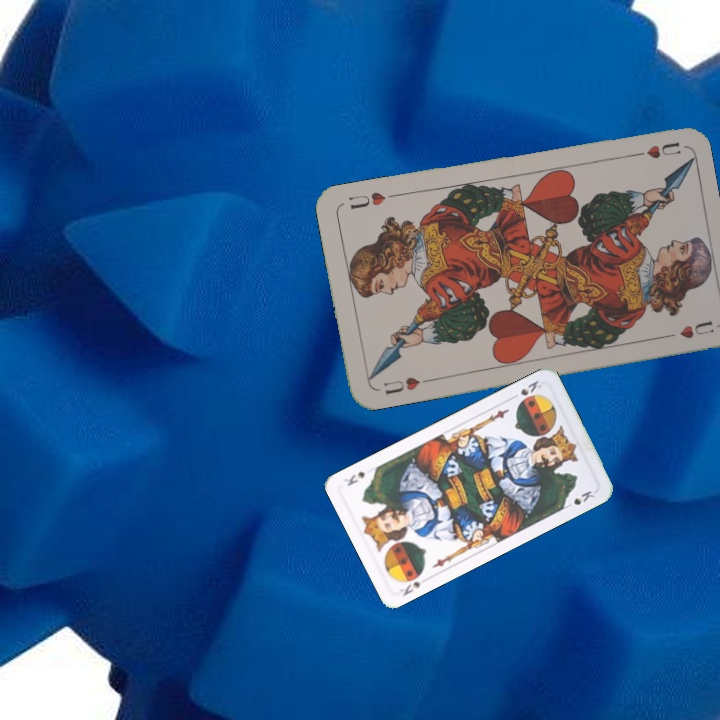HU: (625, 137, 683, 161), (379, 373, 422, 397)
SK: (516, 376, 544, 398), (396, 577, 423, 599)
